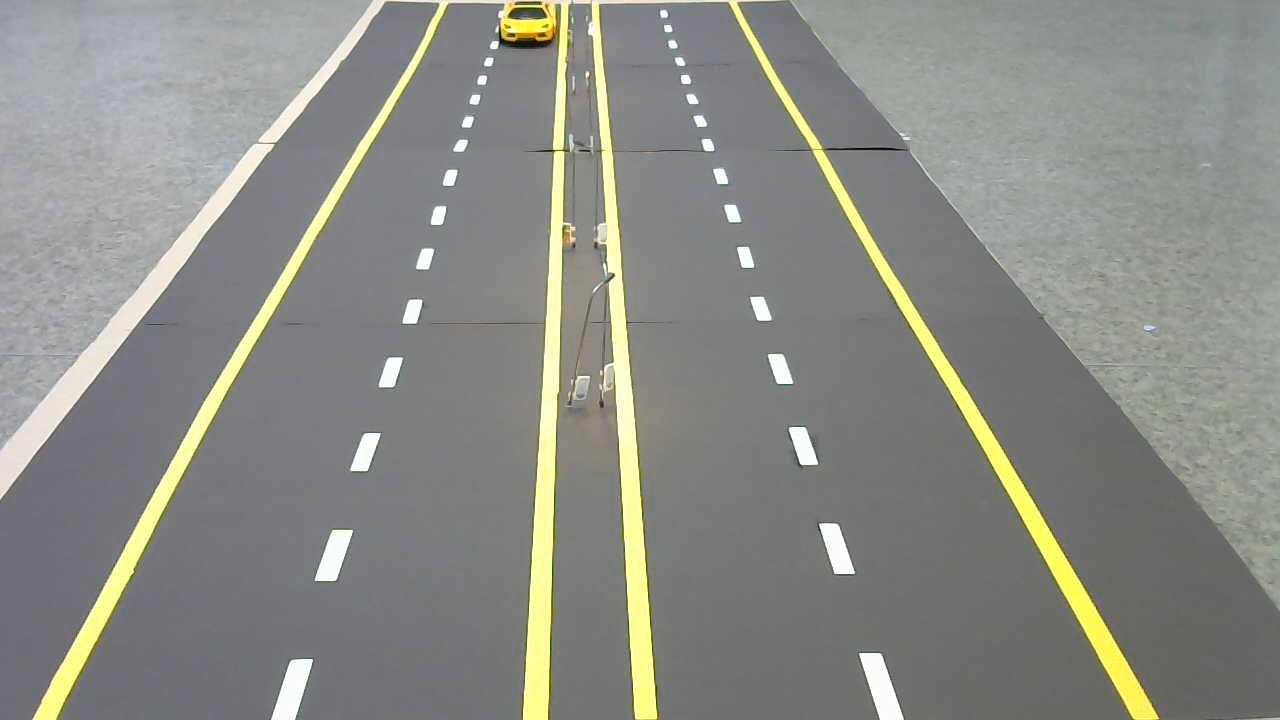front_car: (497, 2, 561, 53)
